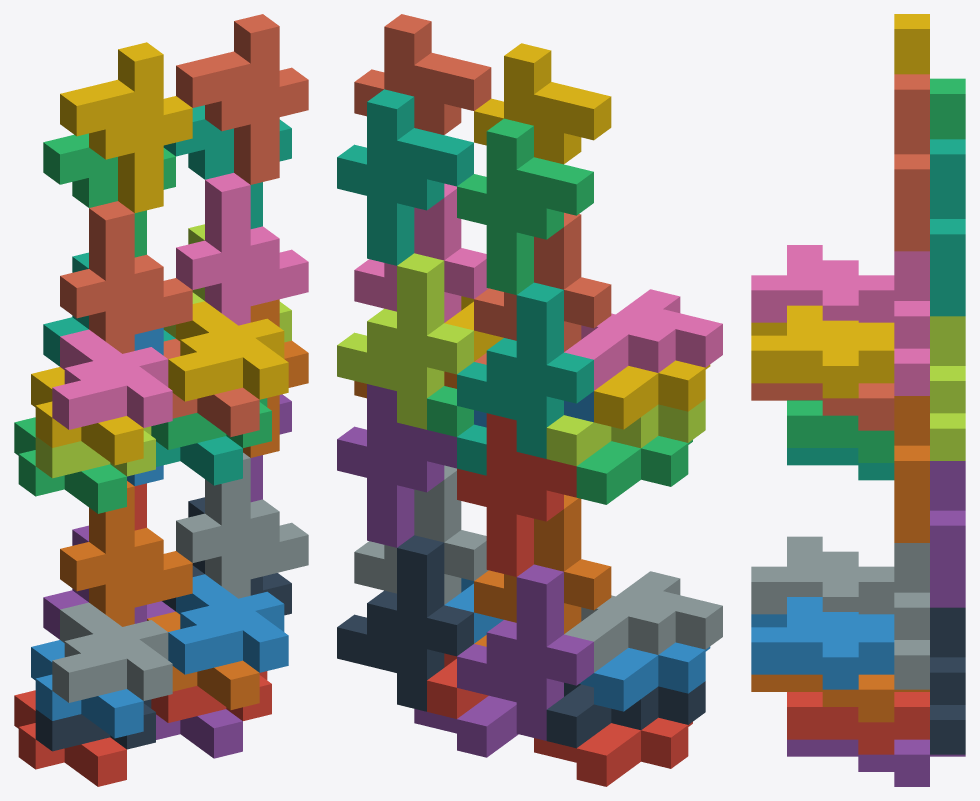
The model's file is tiling.obj.
3 renders of one model, left to right at view 1: azimuth 30°, elevation 25°; view 2: azimuth 150°, elevation 25°; view 3: azimuth 270°, elevation 25°, orthographic. The views are drawn at different scales.
Visible parts, largest first — view 1: copy_4_domain_4, copy_4_domain_8, copy_3_domain_8, copy_3_domain_4, copy_3_domain_6, copy_3_domain_2, copy_2_domain_4, copy_2_domain_2, copy_2_domain_6, copy_2_domain_8, copy_4_domain_3, copy_1_domain_2 (+20 smaller); view 2: copy_4_domain_3, copy_4_domain_7, copy_3_domain_1, copy_3_domain_3, copy_3_domain_7, copy_3_domain_5, copy_4_domain_5, copy_4_domain_1, copy_4_domain_8, copy_4_domain_4, copy_2_domain_2, copy_2_domain_4 (+17 smaller); view 3: copy_2_domain_8, copy_2_domain_6, copy_2_domain_2, copy_2_domain_4, copy_4_domain_7, copy_4_domain_8, copy_2_domain_5, copy_3_domain_5, copy_3_domain_6, copy_4_domain_5, copy_4_domain_6, copy_3_domain_7 (+10 smaller).
Part boxes in pixels (box(x1,y1,x2,y2)): copy_4_domain_4: box(60, 42, 192, 212); copy_4_domain_8: box(176, 14, 308, 184); copy_3_domain_8: box(176, 173, 308, 325); copy_3_domain_4: box(60, 201, 192, 353); copy_3_domain_6: box(176, 452, 308, 598); copy_3_domain_2: box(60, 481, 192, 626); copy_2_domain_4: box(52, 329, 172, 429); copy_2_domain_2: box(52, 602, 172, 702); copy_2_domain_6: box(168, 574, 288, 674); copy_2_domain_8: box(168, 301, 288, 401); copy_4_domain_3: box(43, 133, 175, 257); copy_1_domain_2: box(31, 640, 143, 738); copy_4_domain_3: box(457, 118, 593, 294); copy_4_domain_7: box(337, 89, 473, 265); copy_3_domain_1: box(457, 564, 593, 740); copy_3_domain_3: box(457, 282, 593, 458); copy_3_domain_7: box(337, 253, 473, 429); copy_3_domain_5: box(337, 535, 473, 711); copy_4_domain_5: box(337, 384, 456, 547); copy_4_domain_1: box(457, 413, 576, 576); copy_4_domain_8: box(354, 14, 491, 134); copy_4_domain_4: box(474, 43, 611, 164); copy_2_domain_2: box(564, 571, 722, 672); copy_2_domain_4: box(564, 289, 722, 390); copy_2_domain_8: box(751, 305, 894, 398); copy_2_domain_6: box(751, 597, 894, 689); copy_2_domain_2: box(751, 536, 894, 614); copy_2_domain_4: box(751, 245, 894, 322); copy_4_domain_7: box(930, 139, 965, 316); copy_4_domain_8: box(894, 74, 929, 251); copy_2_domain_5: box(787, 692, 929, 754); copy_3_domain_5: box(930, 607, 965, 754); copy_3_domain_6: box(894, 543, 929, 689); copy_4_domain_5: box(930, 461, 965, 607); copy_4_domain_6: box(894, 396, 929, 542); copy_3_domain_7: box(930, 316, 965, 460).
Size of the model in its own units: 10 by 22 by 6.
